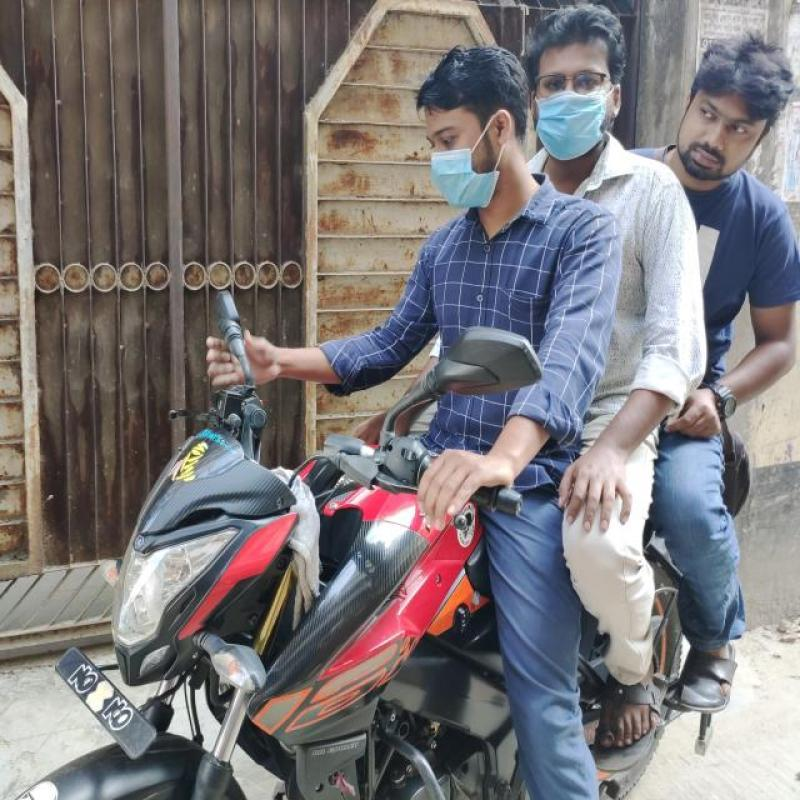nohelmet: (671, 27, 794, 203), (403, 36, 522, 214), (522, 0, 632, 169)
